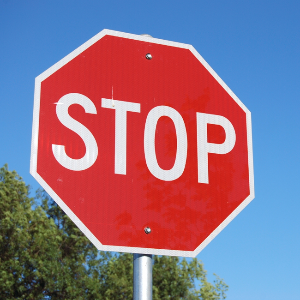STOP_SIGN: (29, 26, 254, 257)
